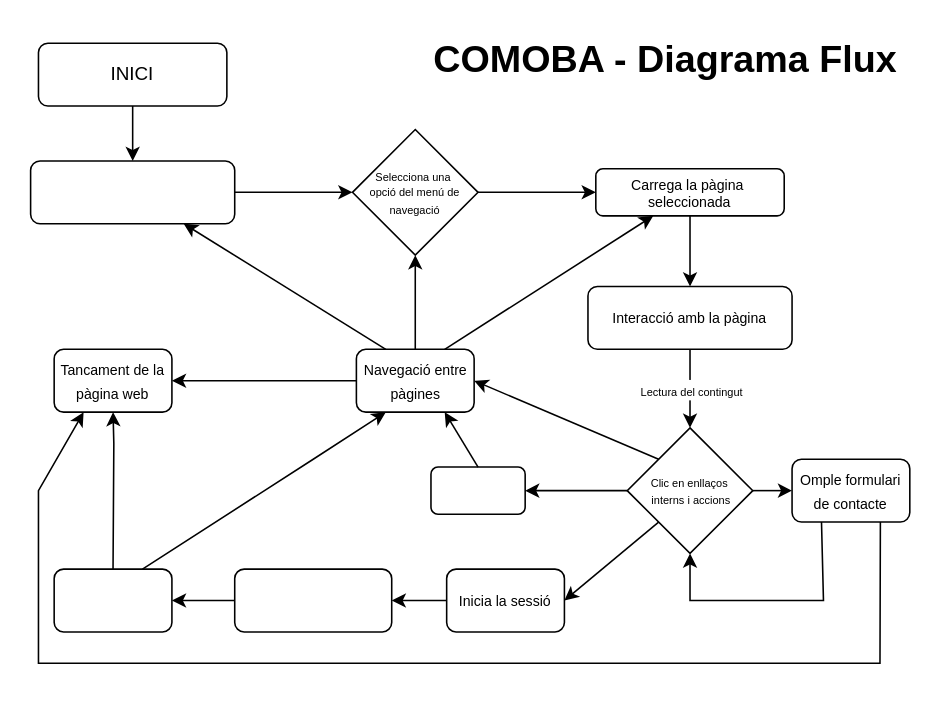
Image size: 937x703. Some labels were removed from this diagram. The box of each missing label's shape, as (x1, y1, x2, y2) in pixels:
Carrega la pàgina d'inici amb menú de navegació: (29, 159, 235, 224)
Carrega la pàgina del perfil admin: (233, 568, 392, 632)
Cerca al lloc web: (429, 466, 525, 514)
Fi de la sessió: (53, 568, 172, 632)
